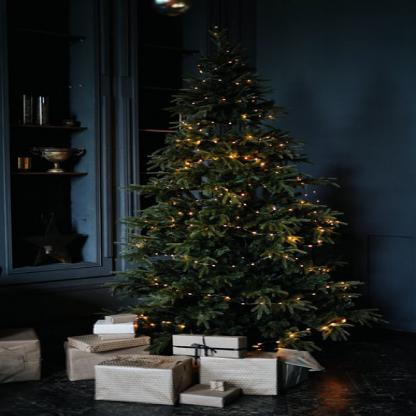present: (100, 342, 225, 415), (176, 329, 253, 372), (212, 350, 297, 385)
x_mas tree: (104, 27, 382, 355)
